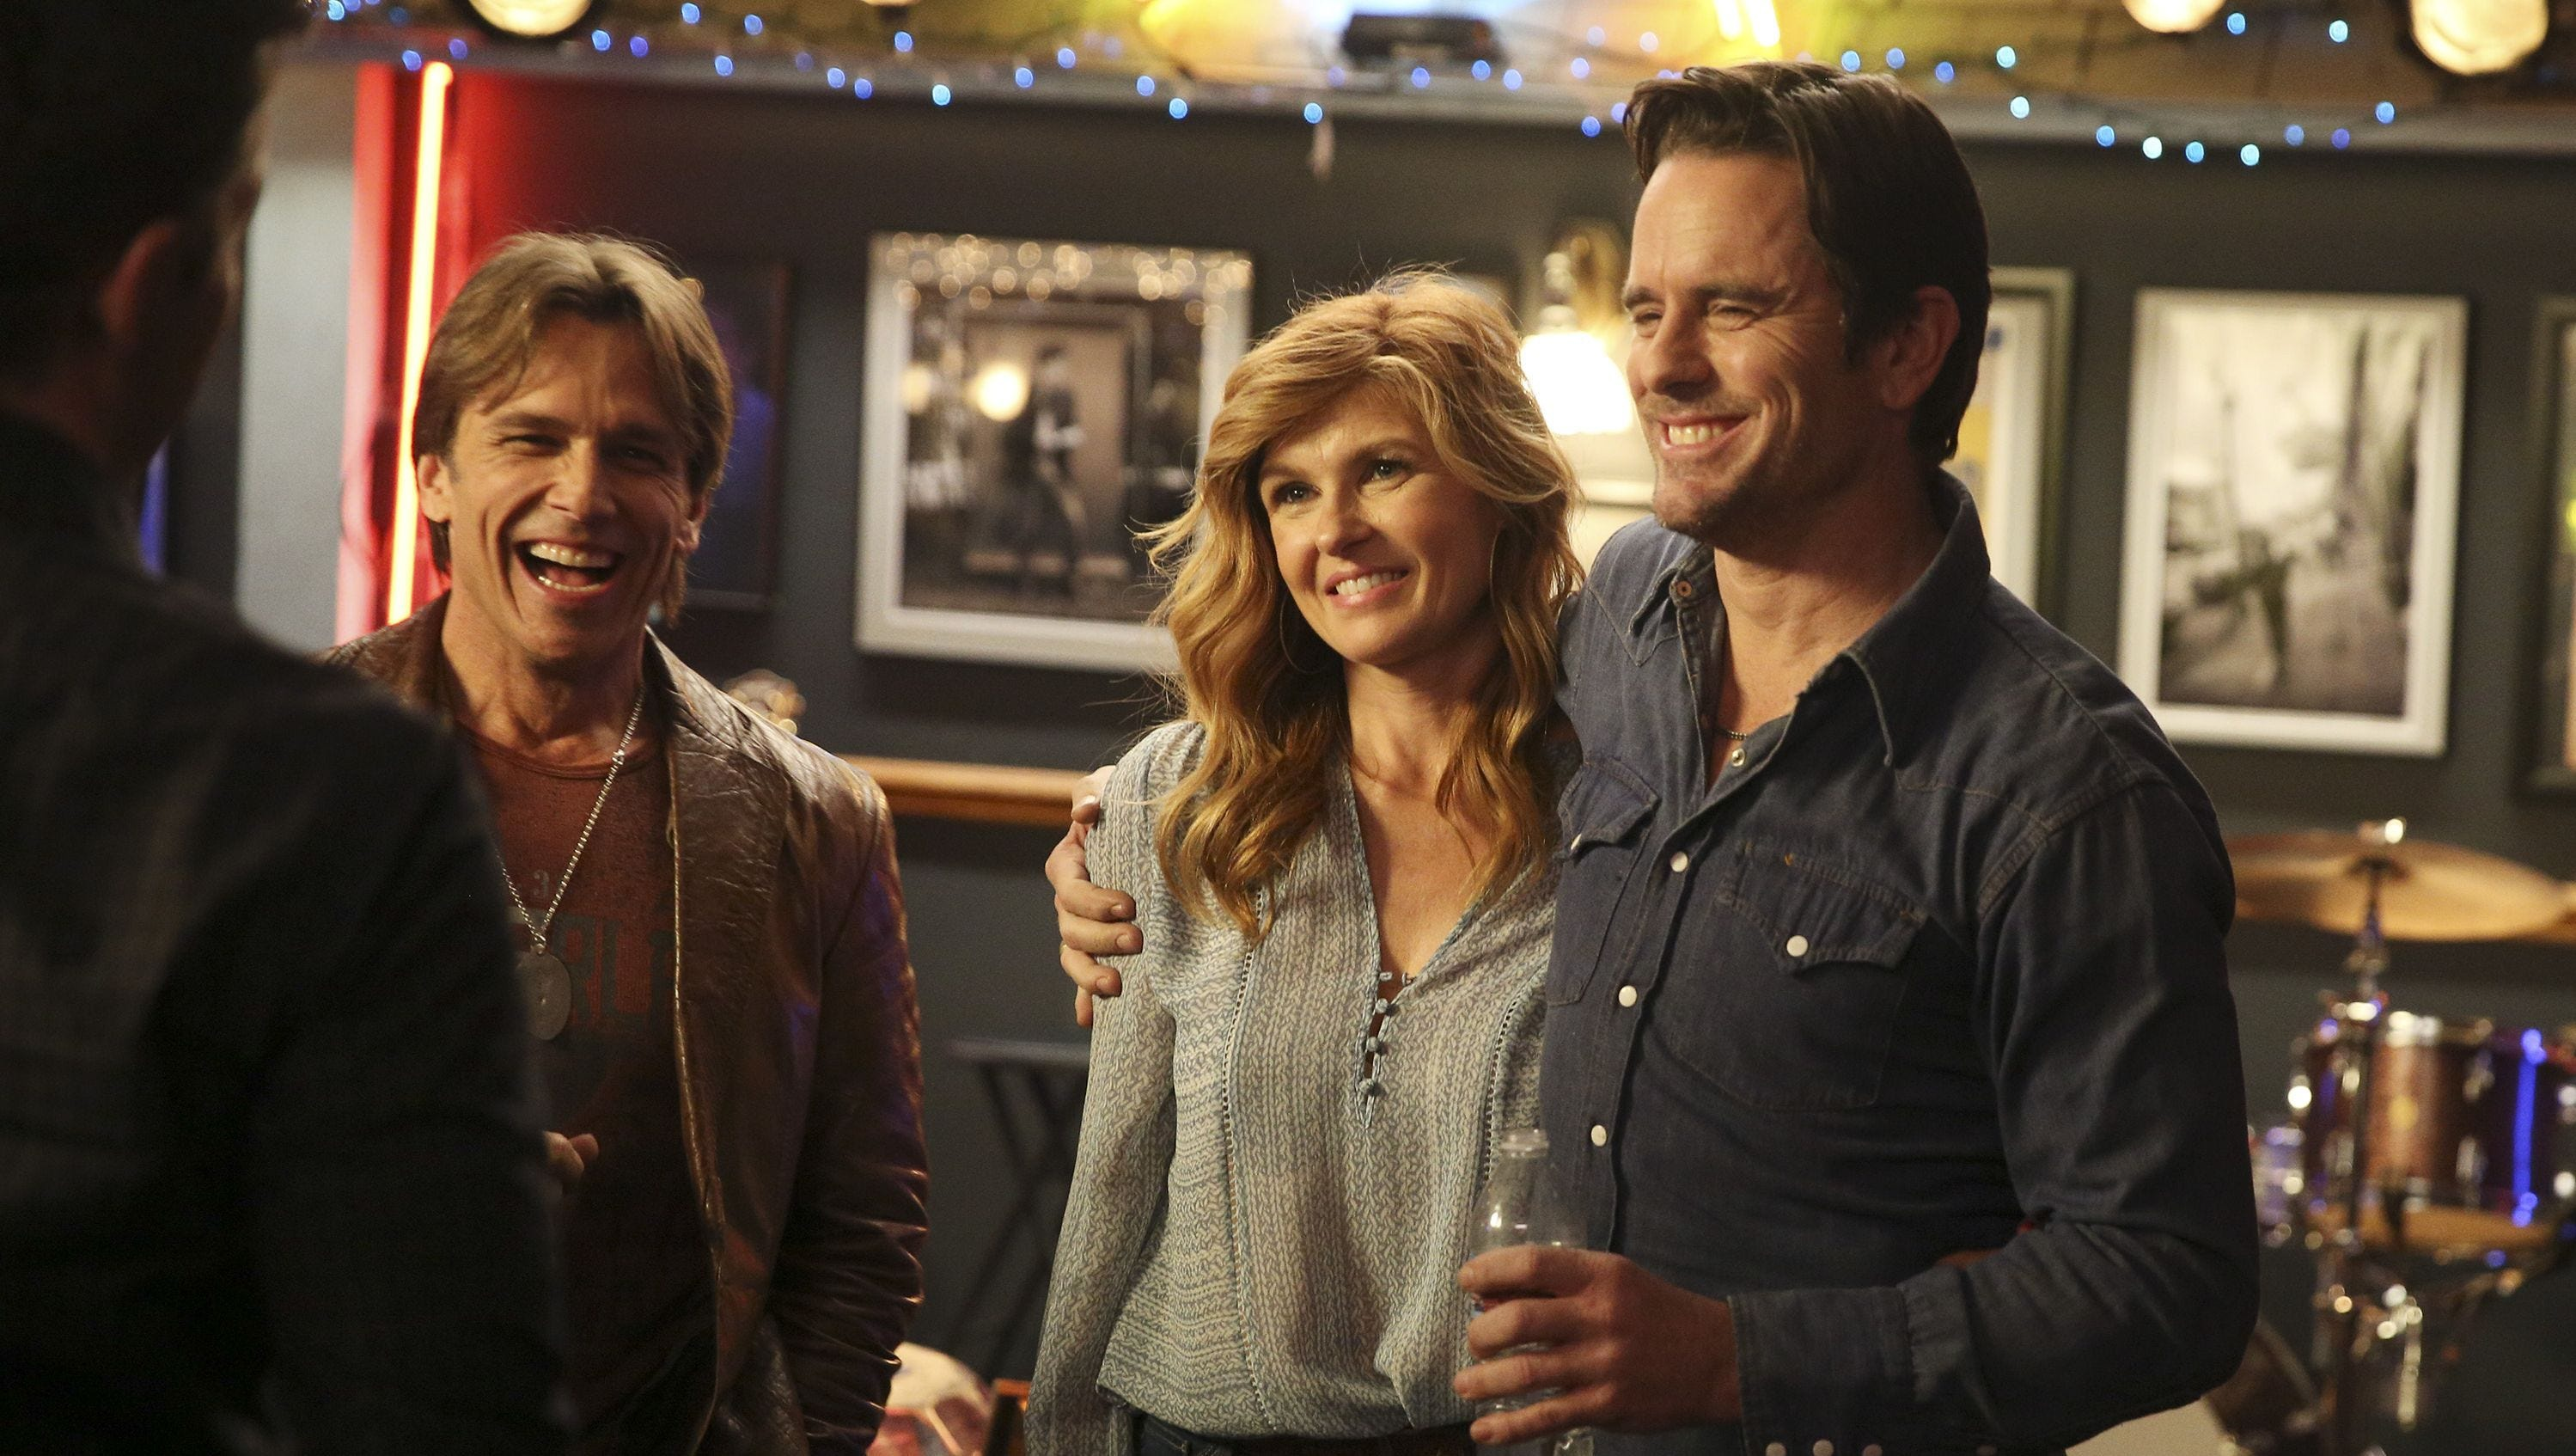bad: (451, 391, 727, 667), (1219, 402, 1449, 633), (1576, 249, 1806, 479)
